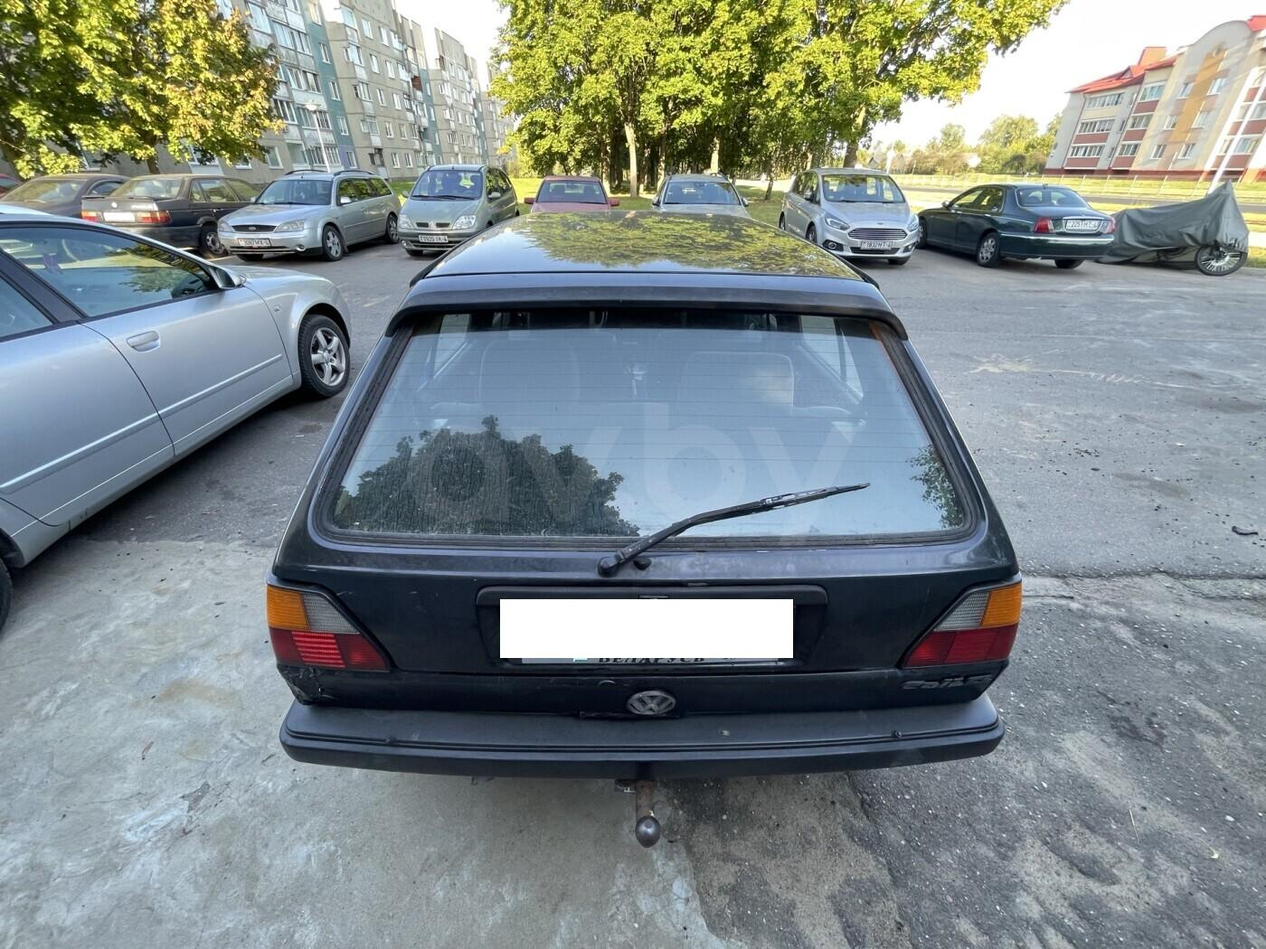Golf_1983-1992: (264, 199, 1027, 780)
